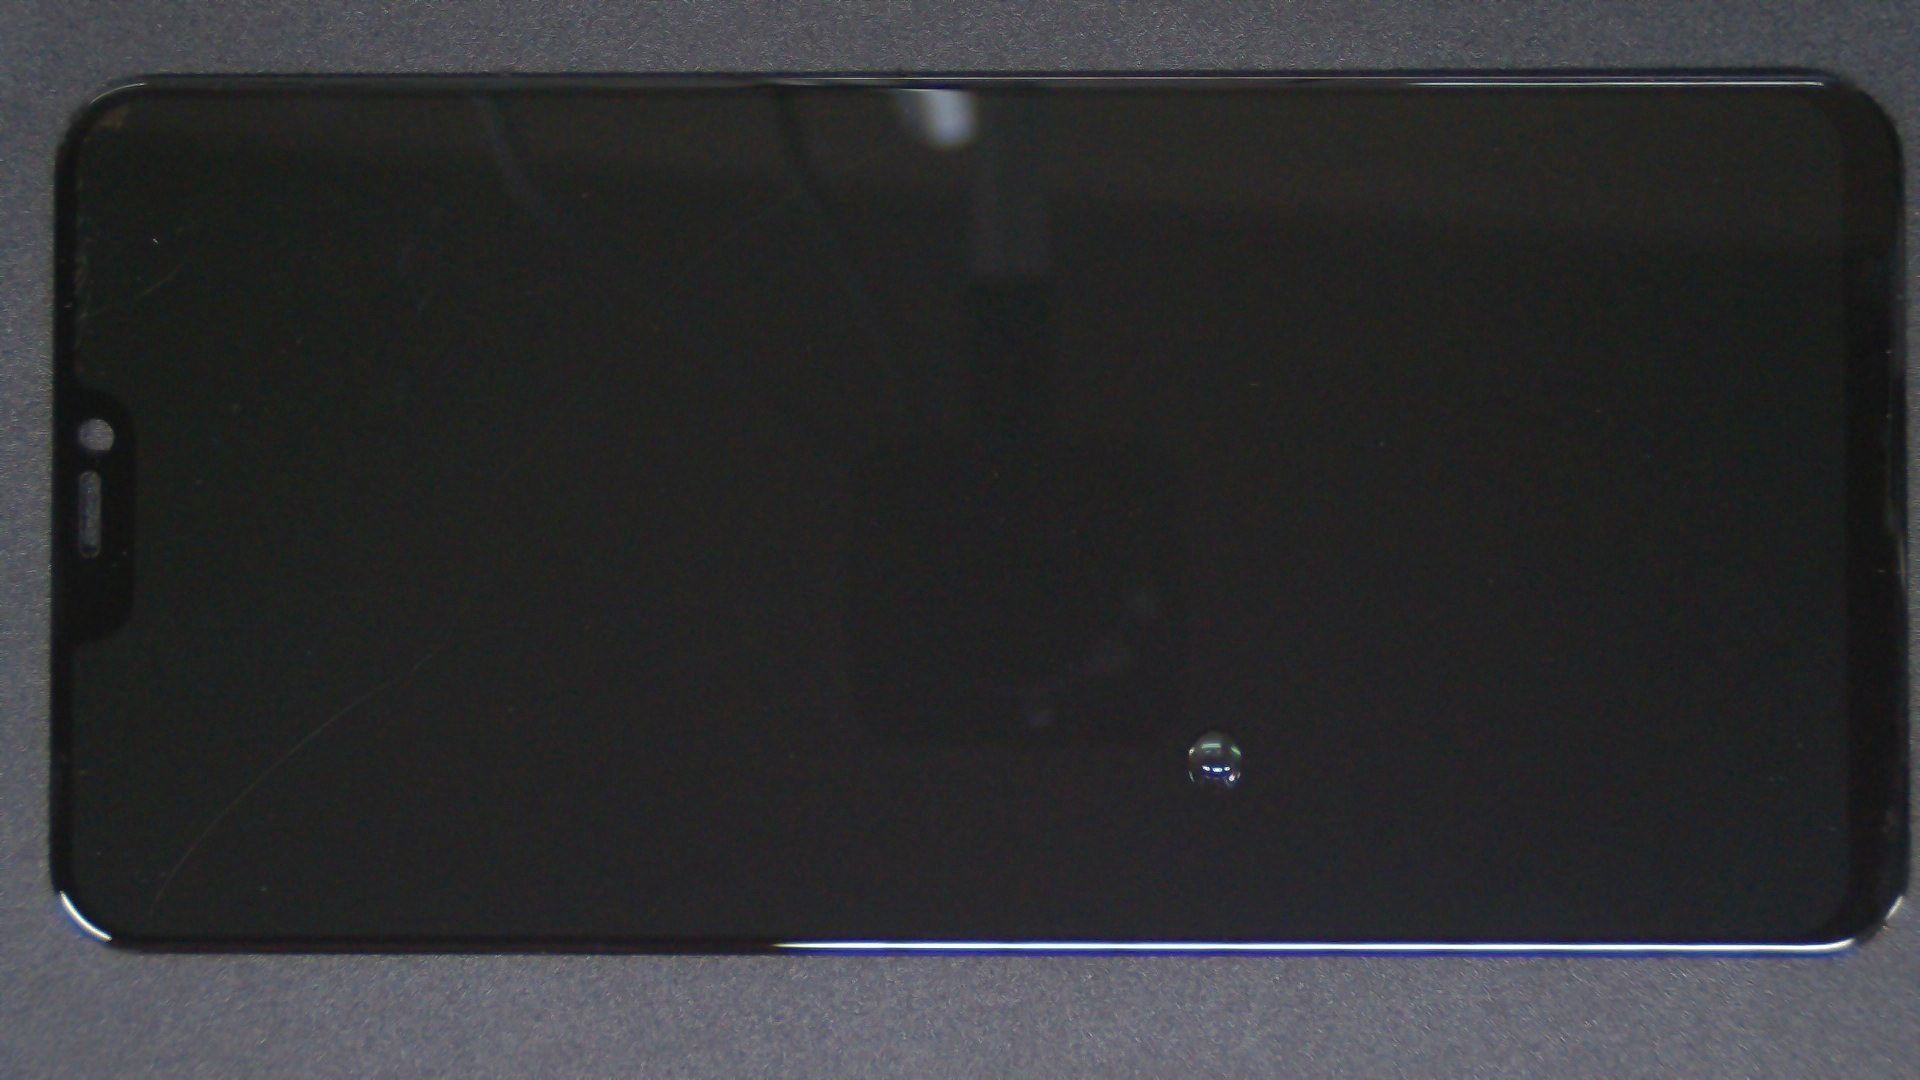oil: (608, 364, 1821, 1080)
